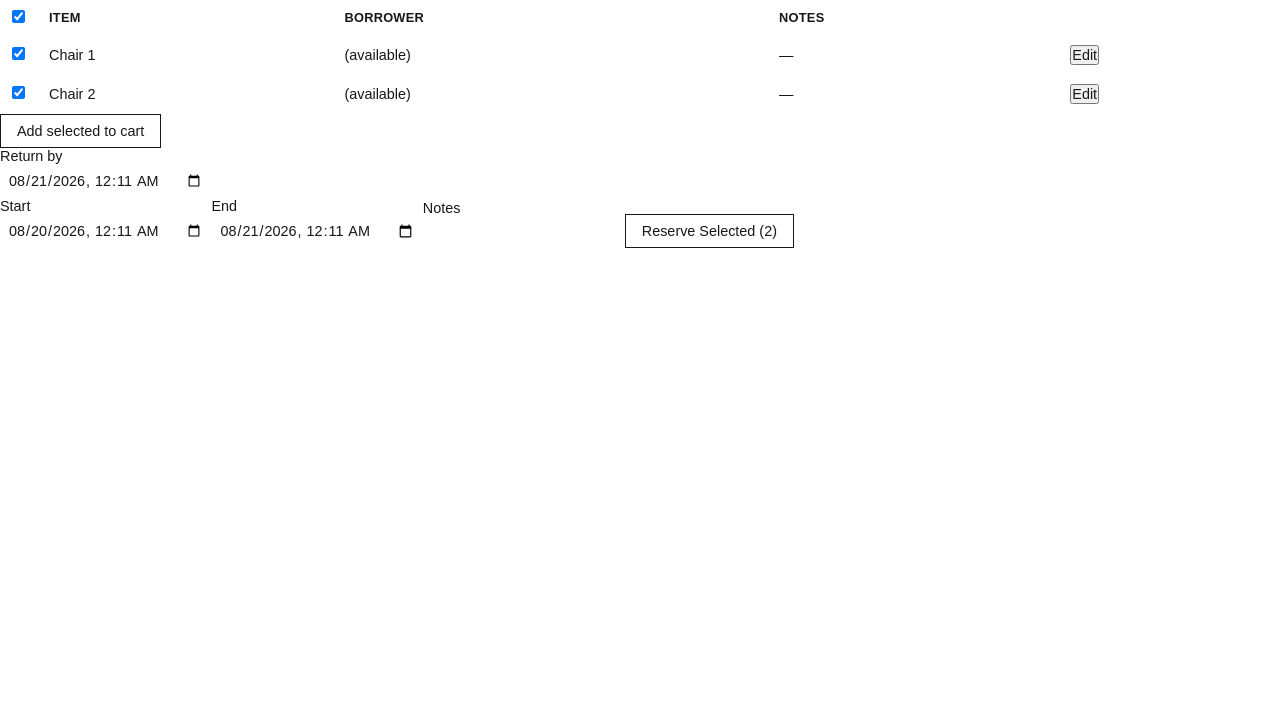
it: clicking a row's Edit button opens the edit modal for that sub-item
Click the button with aria-label "Edit Chair 1" at point(1085, 55), box [1070, 45, 1099, 65]
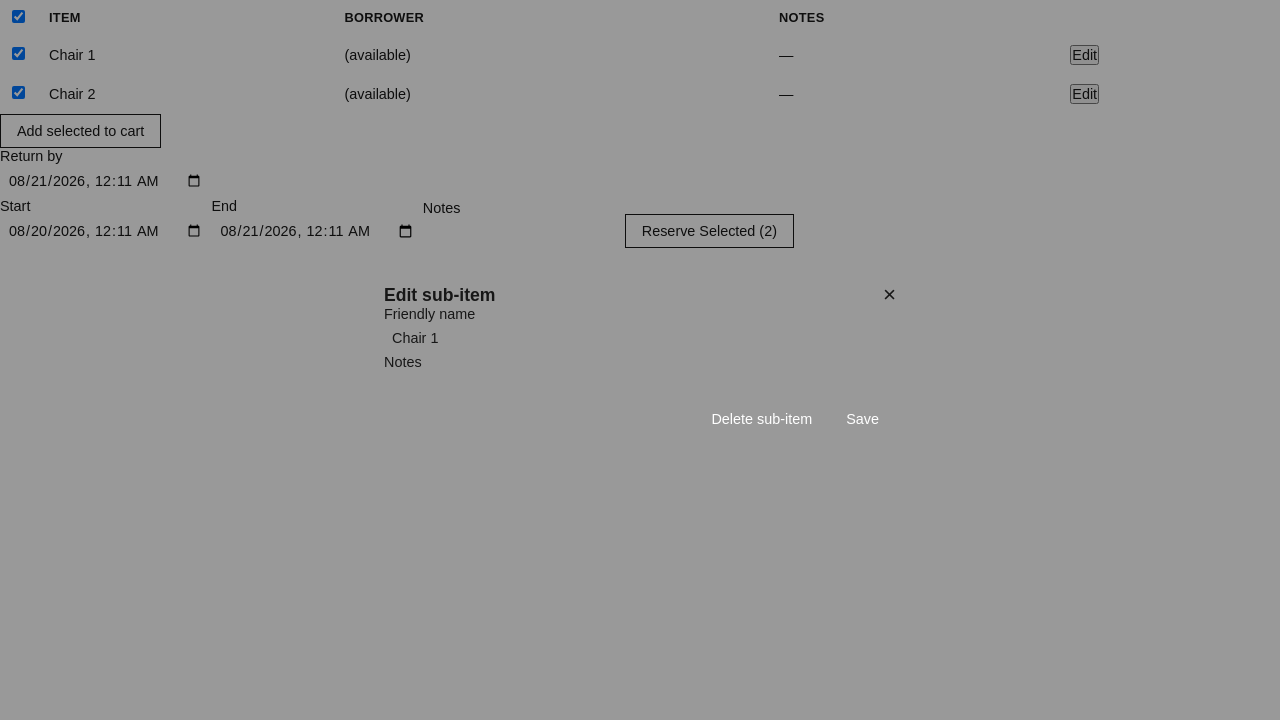
Expected: the dialog "Edit sub-item" is shown, [384, 284, 896, 436]
Expected: the field showing "Chair 1" is shown, [384, 322, 896, 354]
